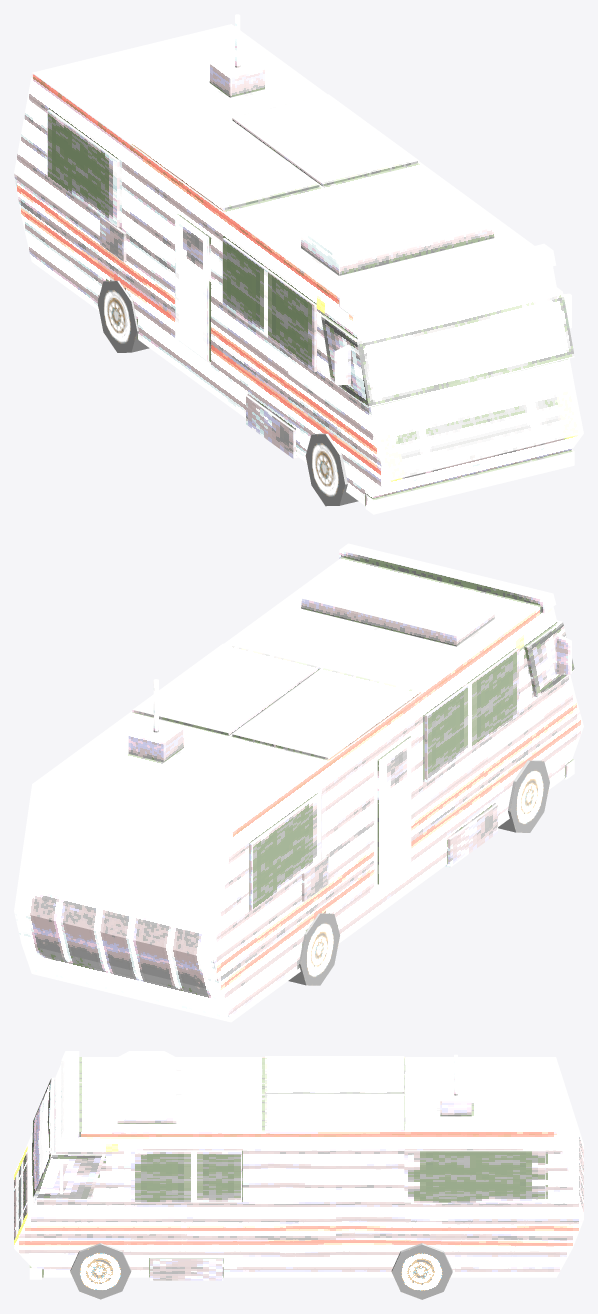
The picture shows the model from 3 angles, top to bottom: view 1: azimuth 30°, elevation 25°; view 2: azimuth 150°, elevation 25°; view 3: azimuth 270°, elevation 25°; orthographic projection. The views are drawn at different scales.
Parts seen in each view (by area): view 1: RV_1; view 2: RV_1; view 3: RV_1.
Part boxes in pixels (box(x1,y1,x2,y2)): RV_1: box(14, 14, 583, 514); RV_1: box(14, 543, 583, 1022); RV_1: box(14, 1051, 583, 1299).
Size of the model in its own units: 2.6 by 3.03 by 7.09.
